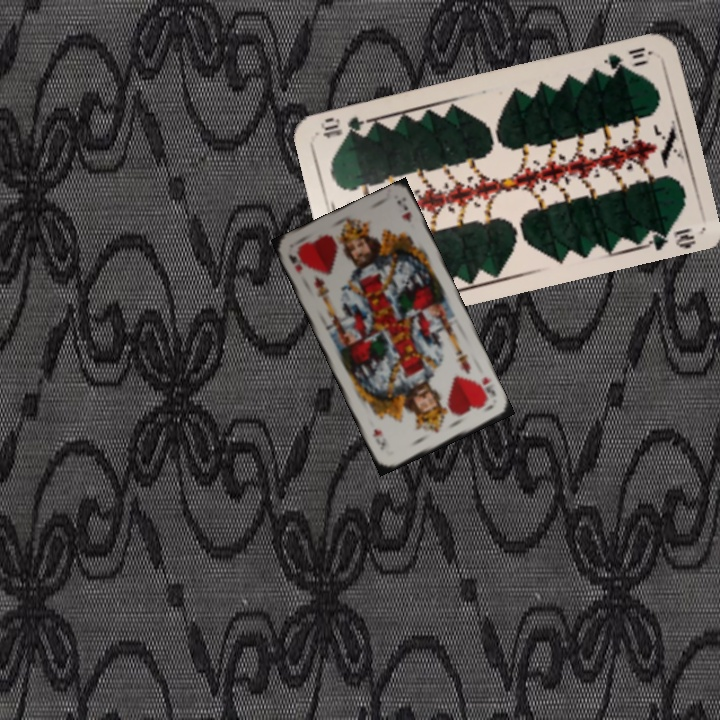G10: (599, 43, 655, 74)
HK: (474, 373, 498, 406), (284, 250, 305, 277)
